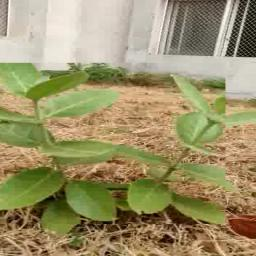CALOTROPIS: (0, 63, 226, 224)
